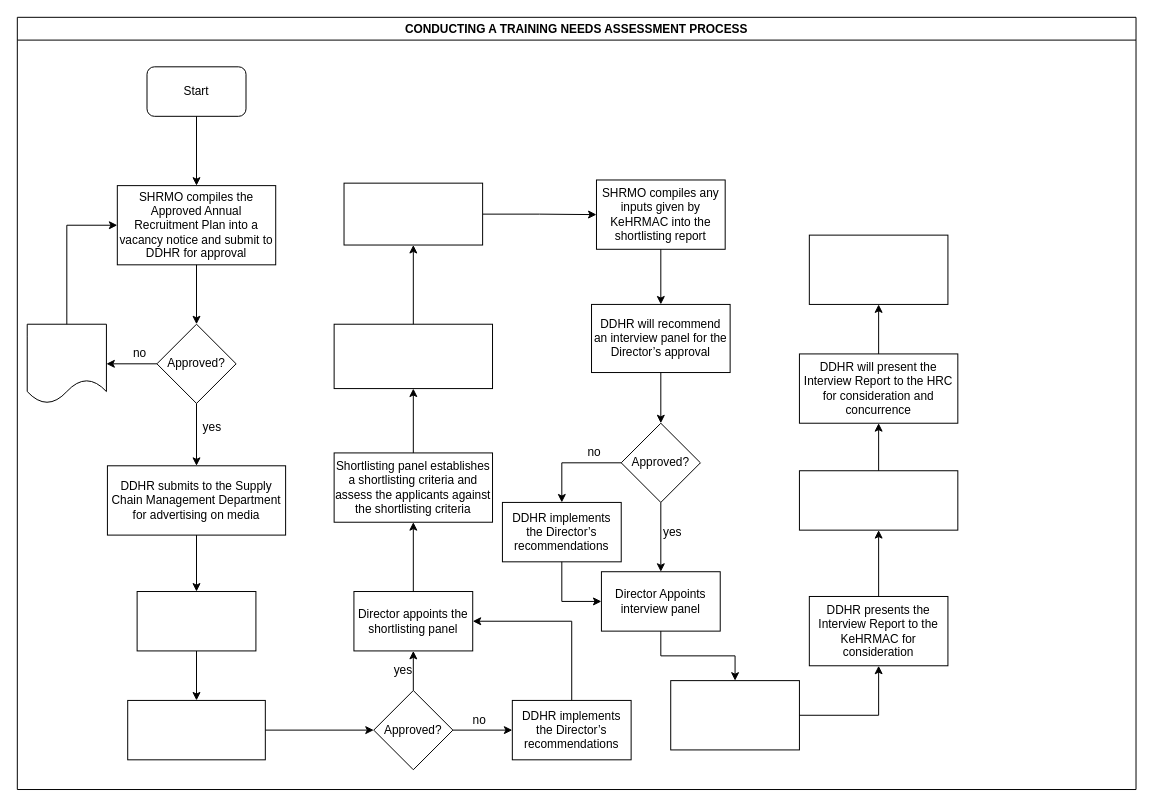
The diagram is 1153 pixels wide and 807 high, and some of its shapes have lost their labels. Each missing label, with the centre of its shape:
Applicants submit applications: the point at 196,621
Comments: the point at 66,363
DDHR recommends a shortlisting panel for the Director’s approval: the point at 196,729
DDHR shall present the shortlisting report to KeHRMAC for inputs: the point at 413,213
Interviews conducted by the interview panel and compiles a report: the point at 734,715
SHRMO incorporates HRC’s inputs (if any) into the interview report: the point at 878,269
SHRMO incorporates KeHRMAC’s inputs (if any) into the interview report: the point at 878,500
The shortlisting panel compile a shortlisting report and submit to DDHR: the point at 413,356
